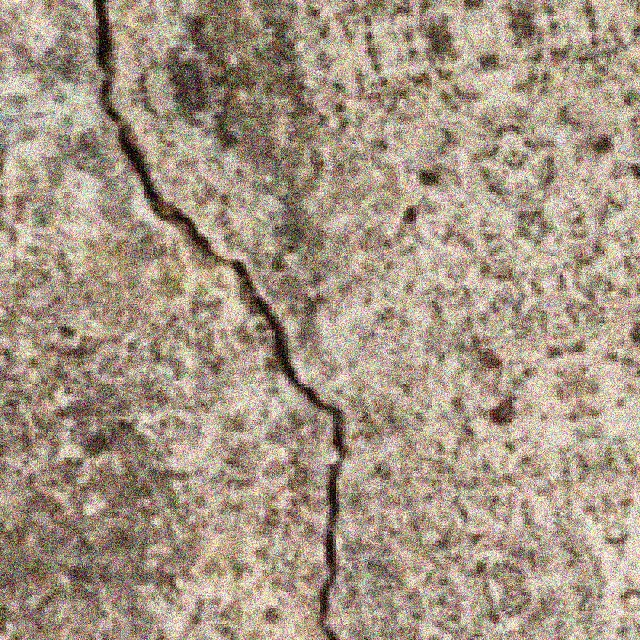SurfaceCrack: (74, 0, 366, 640)
